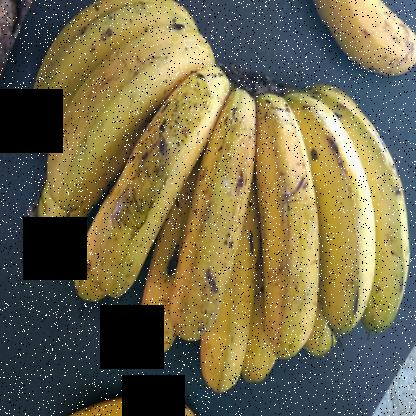ripe: (96, 69, 231, 300), (53, 34, 226, 201), (168, 122, 271, 354), (247, 75, 327, 363), (303, 110, 378, 350), (308, 1, 405, 90)
